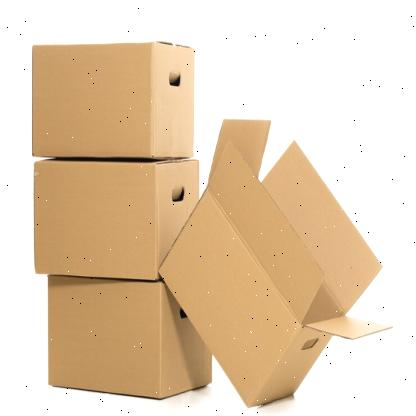box: (159, 188, 299, 408), (33, 162, 156, 276), (31, 42, 150, 158), (49, 281, 162, 402)
